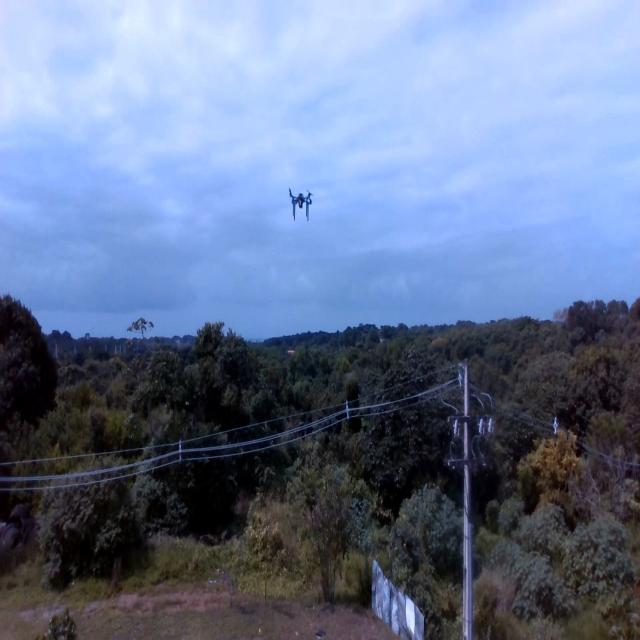-uav-: (282, 164, 318, 227)
